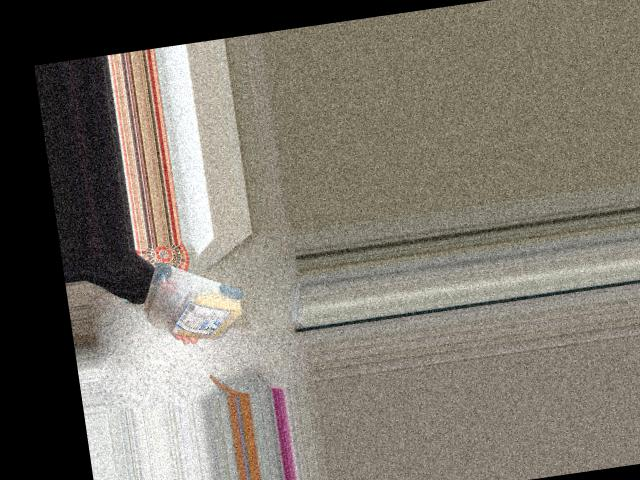cheese: (122, 253, 253, 352)
